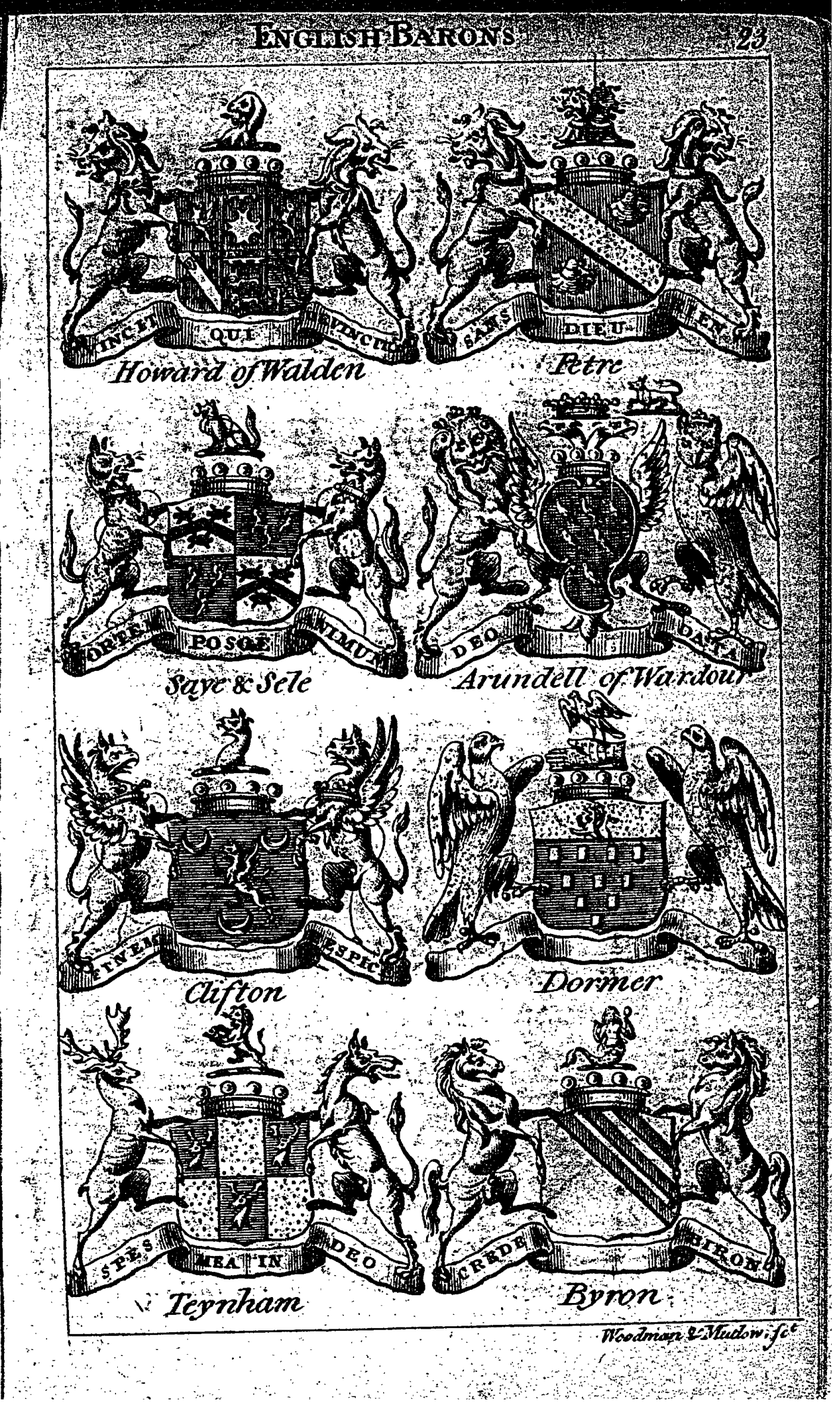coat_of_arms: (50, 386, 419, 707), (49, 80, 412, 395), (57, 1014, 417, 1322), (425, 1002, 788, 1304), (414, 703, 783, 999), (424, 386, 773, 698), (57, 711, 414, 1015), (415, 77, 768, 380)
